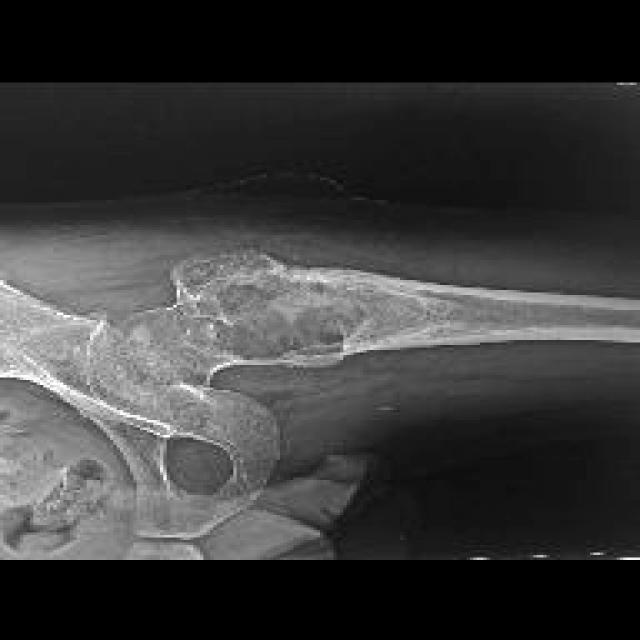bone-cancer: (118, 248, 496, 388)
